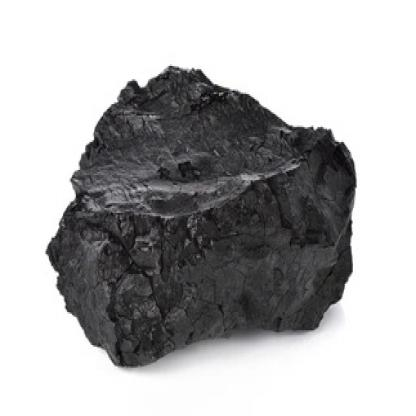Sedimentary_coal: (44, 43, 360, 363)
